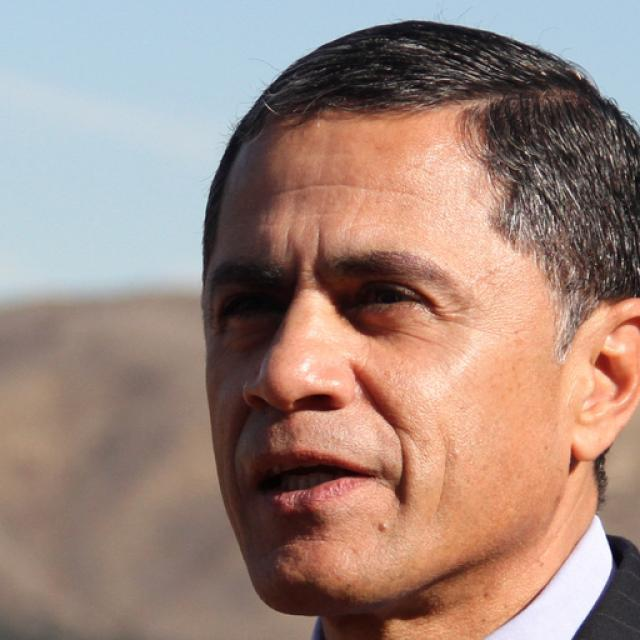0_rostro_limpio: (205, 21, 640, 616)
